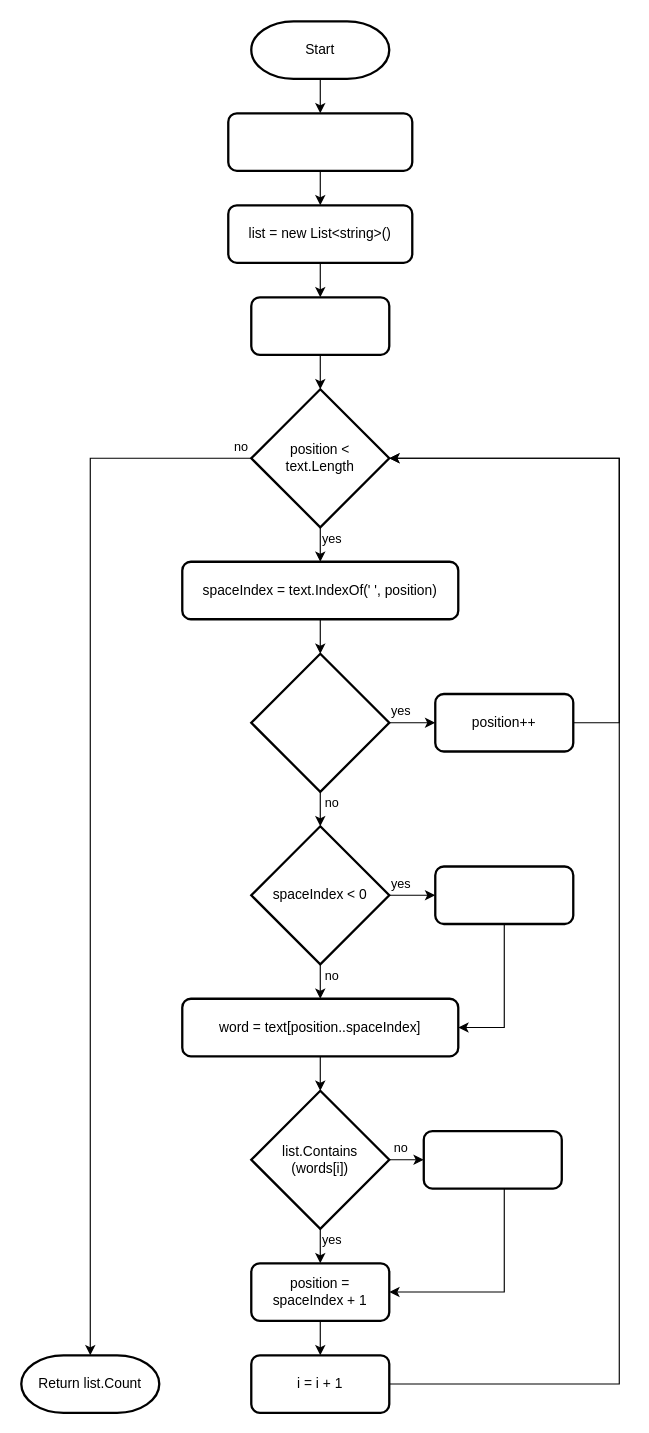
Image size: 649x1433. Some labels were removed from this diagram. The shapes that lost their labels are listed below. From the top down, each one's box as (x1, y1, x2, y2) in pixels, then its label:
(227, 112, 413, 171): text = "..."
(250, 296, 390, 355): position = 0
(250, 652, 390, 792): spaceIndex == position
(434, 865, 574, 925): spaceIndex = text.Length
(422, 1129, 562, 1189): list.Add(words[i])
